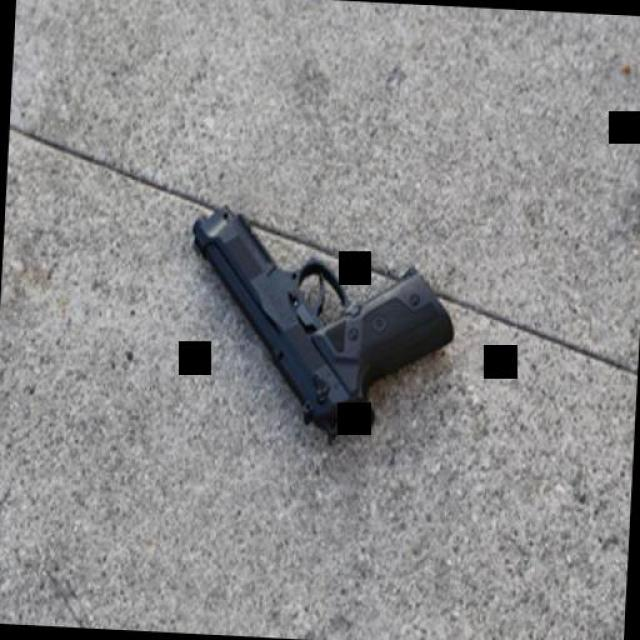gun: (179, 199, 461, 446)
